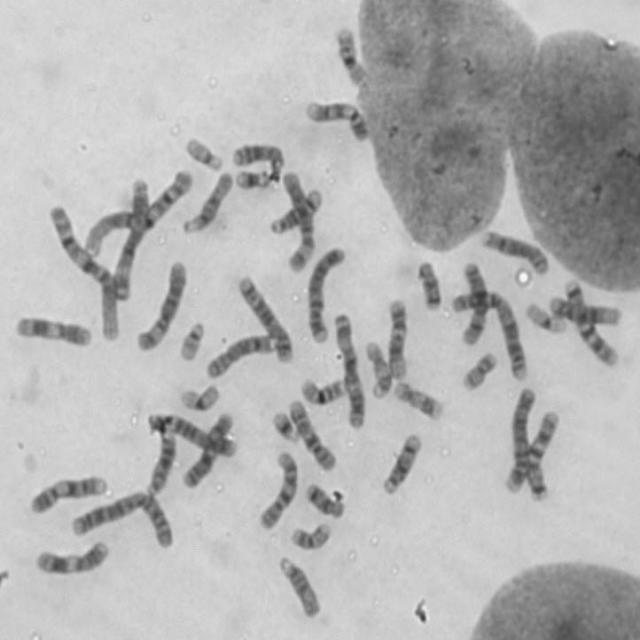A1: (45, 201, 121, 343), (79, 165, 194, 258)
A2: (449, 284, 530, 382), (66, 487, 176, 550)
A3: (107, 175, 152, 302), (331, 309, 366, 430)
B4: (508, 384, 550, 504), (304, 241, 348, 345)
B5: (234, 272, 295, 364), (144, 409, 238, 459)
C10: (285, 395, 338, 472), (256, 448, 300, 533)
C11: (31, 536, 111, 577), (11, 311, 94, 349)
C12: (546, 292, 622, 328), (384, 296, 410, 379)
C6: (132, 255, 189, 354), (280, 166, 316, 272)
C7: (561, 276, 621, 368), (503, 406, 560, 496)
C8: (203, 330, 277, 380), (478, 226, 550, 277)
C9: (27, 471, 110, 516), (302, 95, 372, 143)
D13: (143, 429, 177, 498), (230, 138, 287, 179)
D14: (379, 429, 423, 497), (268, 184, 324, 236)
D15: (180, 168, 234, 235), (276, 552, 324, 621)
E16: (332, 21, 368, 88), (298, 373, 348, 407)
E17: (390, 377, 444, 422), (362, 338, 392, 399)
E18: (302, 479, 346, 520), (413, 256, 443, 312)
F19: (522, 299, 568, 335), (176, 380, 222, 413)
F20: (459, 347, 499, 393), (288, 519, 333, 552)
G21: (268, 406, 301, 443), (231, 166, 272, 190)
G22: (180, 132, 224, 173), (176, 317, 206, 363)
X: (178, 408, 236, 492), (456, 256, 490, 346)
